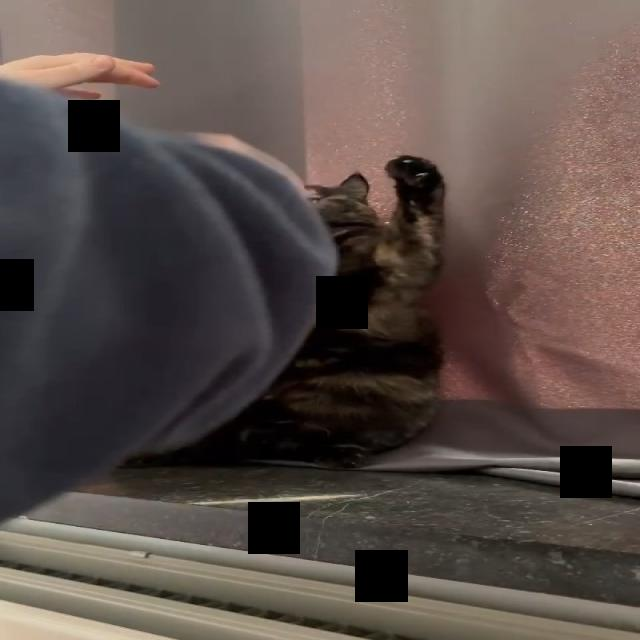authorized: (120, 154, 448, 469)
